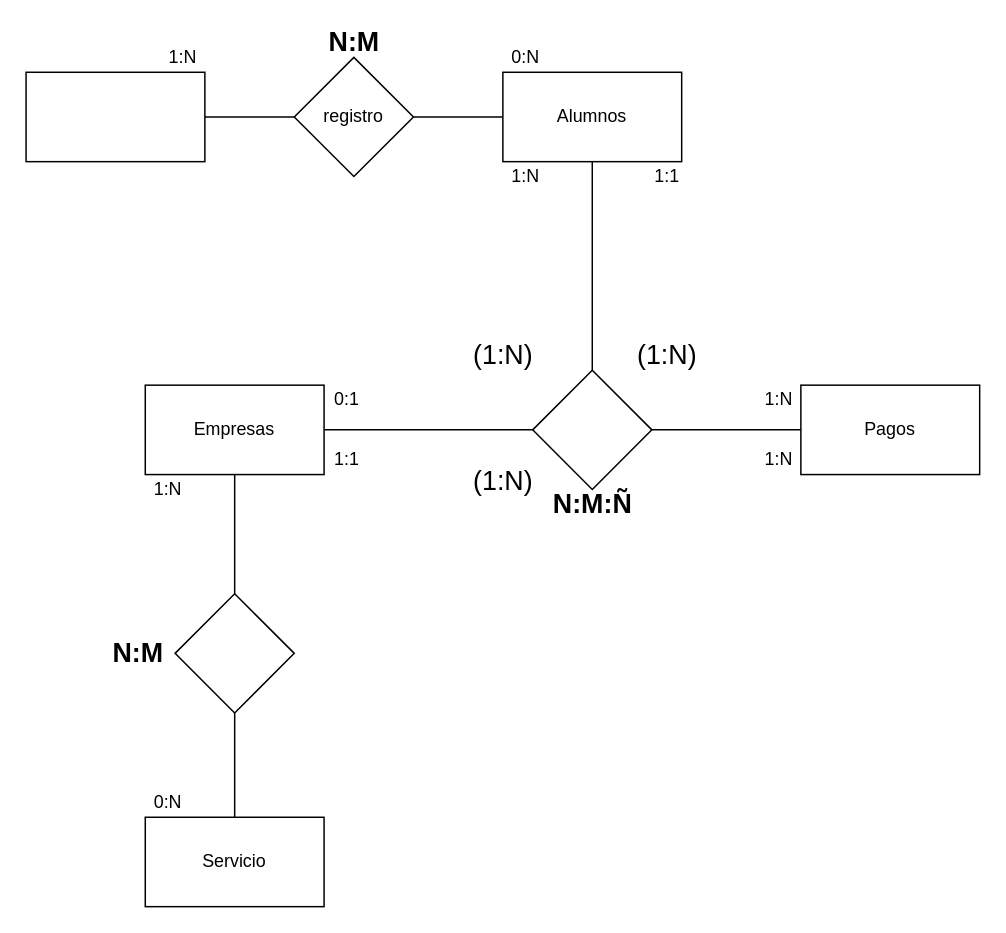
Image size: 1006x933. Some labels were removed from this diagram. The box of each missing label's shape, as (x1, y1, x2, y2) in pixels:
Clases: (25, 71, 205, 162)
dinero: (531, 369, 652, 489)
realizar: (174, 592, 294, 713)
